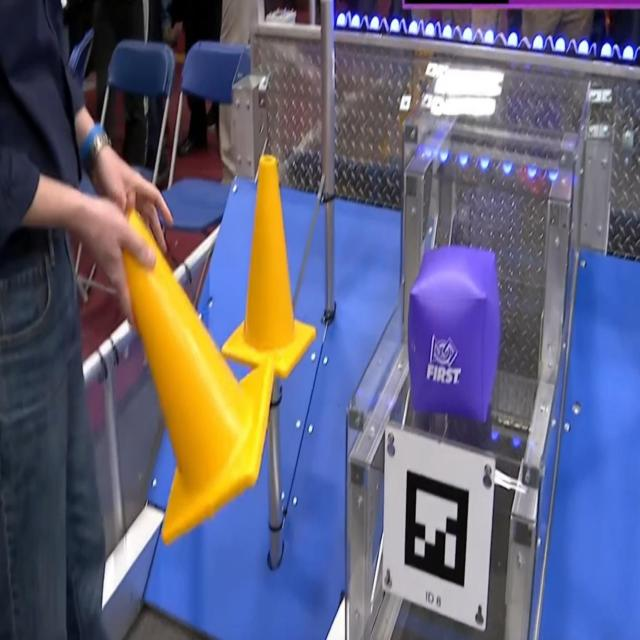frc_cone: (118, 210, 273, 546), (222, 160, 317, 386)
frc_cube: (409, 246, 502, 422)
